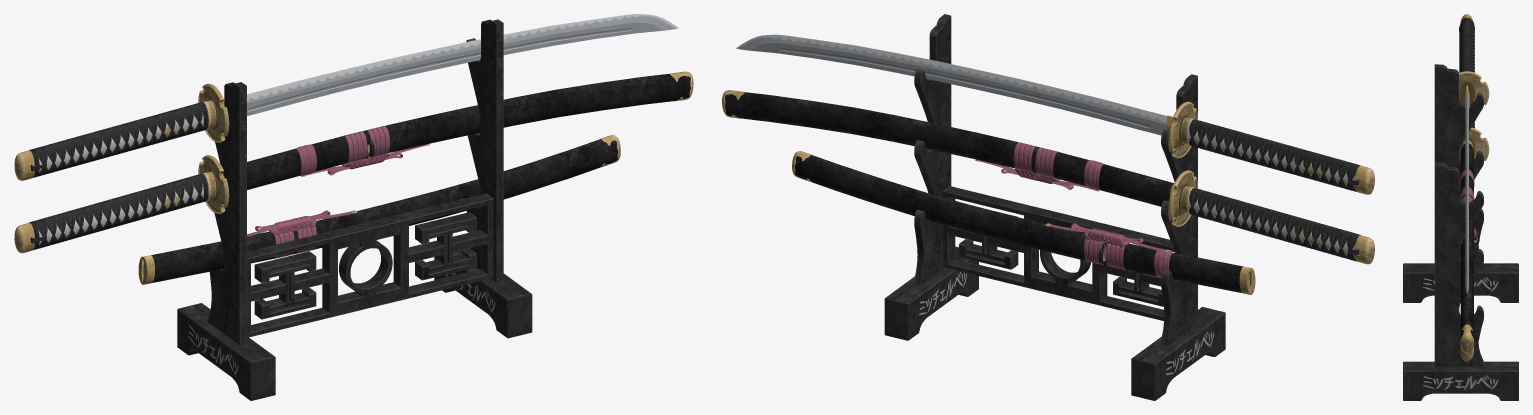
Rendered from wall-katana.glb.
3 renders of one model, left to right at view 1: azimuth 30°, elevation 25°; view 2: azimuth 150°, elevation 25°; view 3: azimuth 270°, elevation 25°, orthographic. The views are drawn at different scales.
Visible parts, largest first — view 1: defaultMaterial (×3); view 2: defaultMaterial (×3); view 3: defaultMaterial (×3).
Boxes of the visible parts, left/top/right/bottom form: defaultMaterial (×3): left=14, top=14, right=693, bottom=400; defaultMaterial (×3): left=722, top=14, right=1374, bottom=400; defaultMaterial (×3): left=1403, top=14, right=1518, bottom=400.
Size of the model in its own units: 5.98 by 2.51 by 1.13.
Materials: 3 (3 with a texture image).
